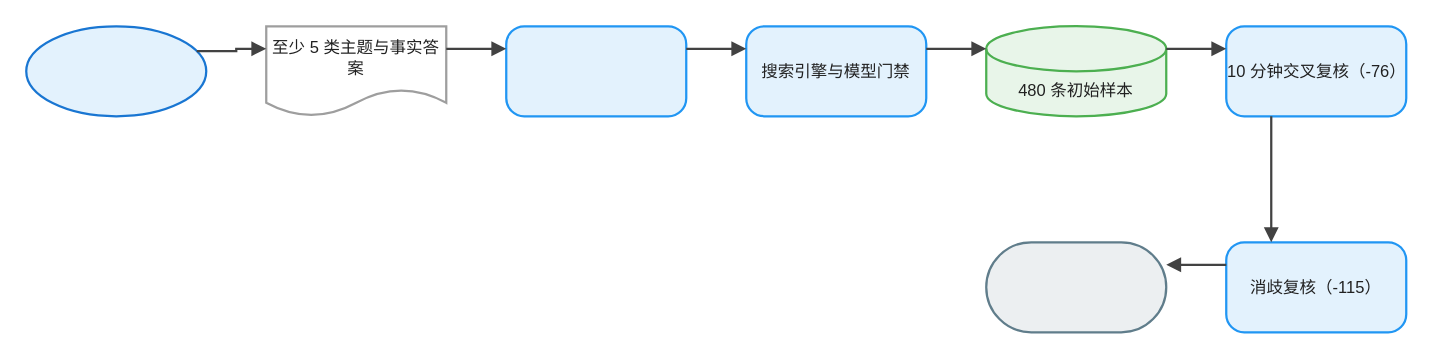
The diagram is 1434 pixels wide and 360 high, and some of its shapes have lost their labels. Each missing label, with the box of its shape:
10 位专家贡献者: (24, 24, 207, 117)
289 道验证题: (984, 240, 1167, 333)
多约束反向设问: (504, 24, 687, 117)
